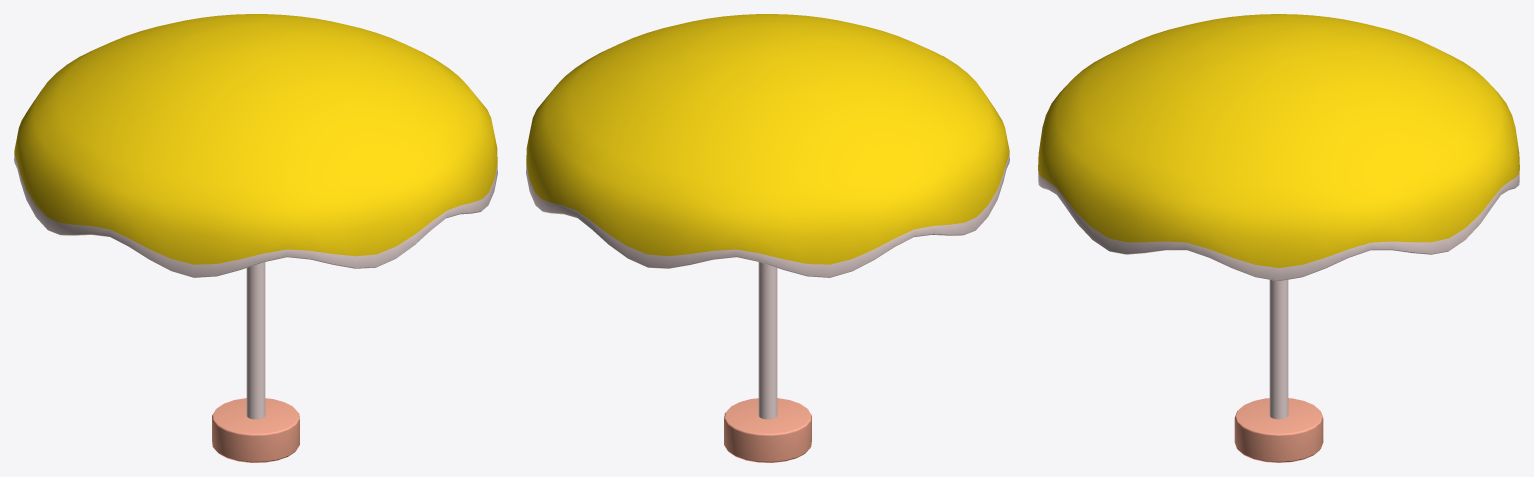
Rendered from Store_5_Umbrella_1.glb.
3 renders of one model, left to right at view 1: azimuth 30°, elevation 25°; view 2: azimuth 150°, elevation 25°; view 3: azimuth 270°, elevation 25°, orthographic.
Parts seen in each view (by area): view 1: Store_5_Umbrella_1; view 2: Store_5_Umbrella_1; view 3: Store_5_Umbrella_1.
Part boxes in pixels (bbox=[...]): Store_5_Umbrella_1: bbox=[14, 14, 497, 462]; Store_5_Umbrella_1: bbox=[526, 14, 1009, 462]; Store_5_Umbrella_1: bbox=[1038, 14, 1519, 462].
Bounding box in the file's own units: 1.82 × 1.65 × 1.82.
Materials: 1 (1 with a texture image).
